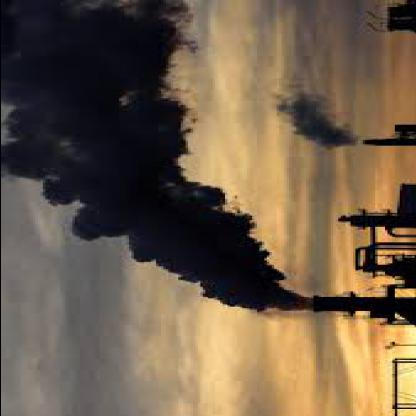Smoke: (2, 2, 174, 209), (134, 221, 230, 262)
